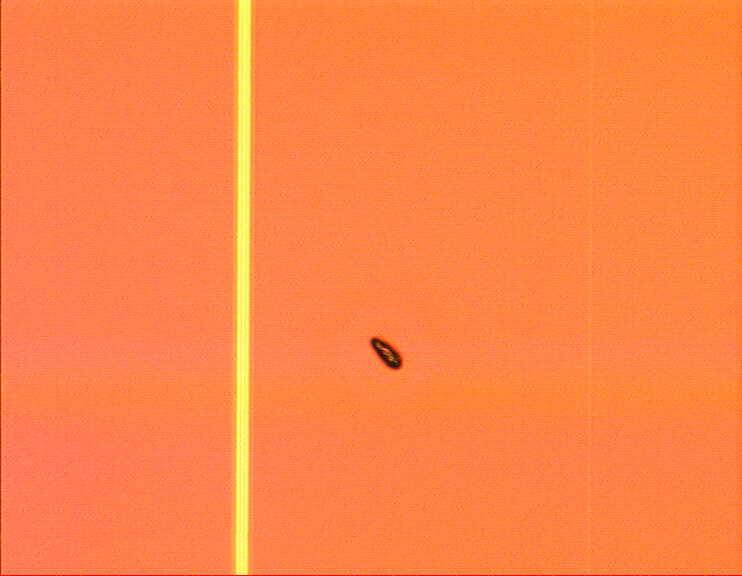PIQ PARTICLE: (365, 333, 408, 377)
